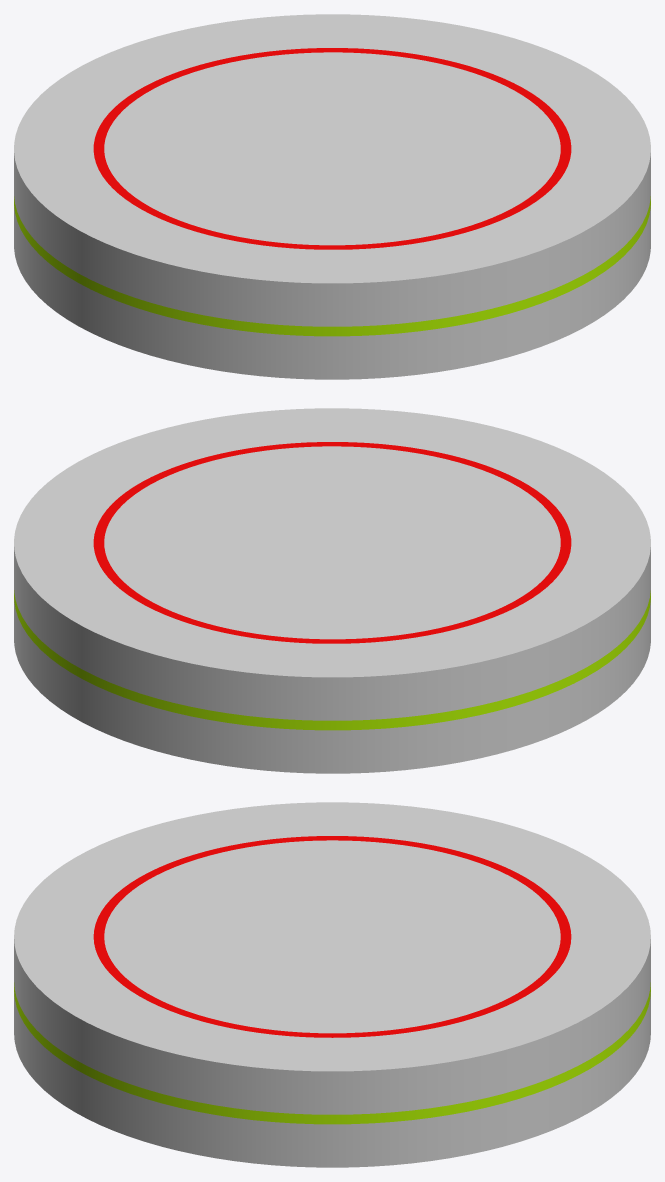
Rendered from standee-08.glb.
The picture shows the model from 3 angles, top to bottom: view 1: azimuth 30°, elevation 25°; view 2: azimuth 150°, elevation 25°; view 3: azimuth 270°, elevation 25°; orthographic projection.
Visible parts, largest first — view 1: 3DGeom-2, 3DGeom-4, 3DGeom-3; view 2: 3DGeom-2, 3DGeom-4, 3DGeom-3; view 3: 3DGeom-2, 3DGeom-4, 3DGeom-3.
Boxes of the visible parts, box(x1,y1,x2,y2) form: 3DGeom-2: box(14, 14, 650, 379); 3DGeom-4: box(93, 48, 571, 249); 3DGeom-3: box(14, 196, 650, 336); 3DGeom-2: box(14, 408, 650, 773); 3DGeom-4: box(93, 442, 571, 643); 3DGeom-3: box(14, 590, 650, 730); 3DGeom-2: box(14, 802, 650, 1167); 3DGeom-4: box(93, 836, 571, 1037); 3DGeom-3: box(14, 982, 650, 1124).
Bounding box in the file's own units: 1.2 × 0.2 × 1.2.
